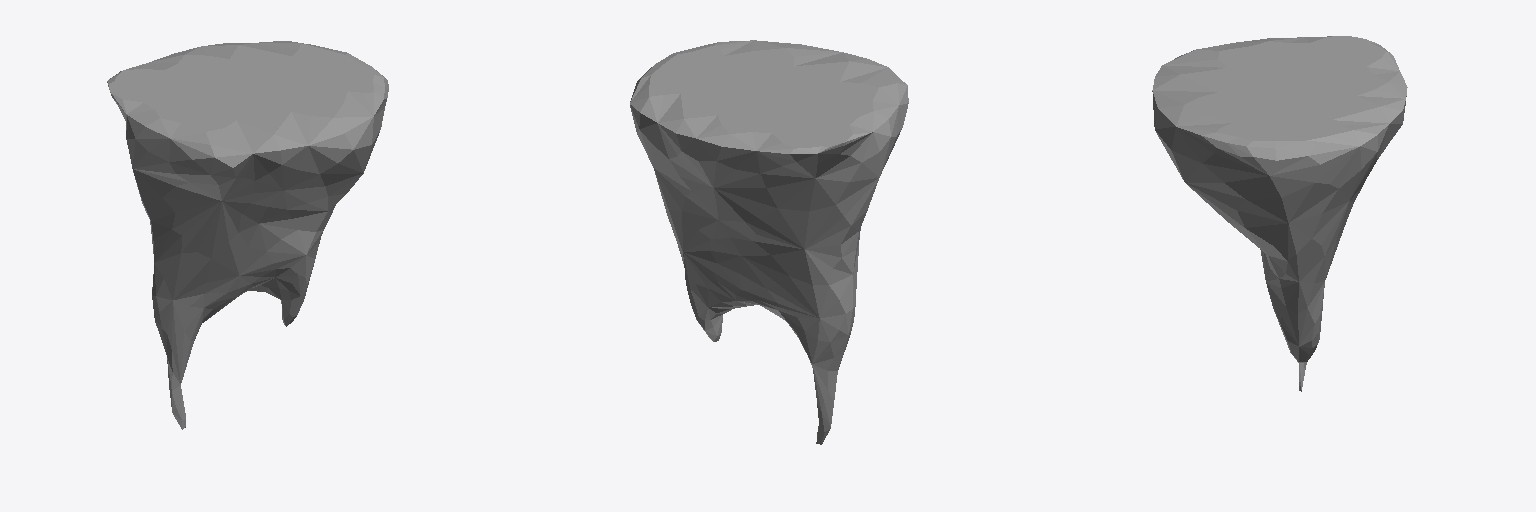
File: island2.obj
The picture shows the model from 3 angles: view 1: azimuth 30°, elevation 25°; view 2: azimuth 150°, elevation 25°; view 3: azimuth 270°, elevation 25°; orthographic projection.
Parts seen in each view (by area): view 1: Mesh_Cube; view 2: Mesh_Cube; view 3: Mesh_Cube.
Boxes of the visible parts, x1=… form: Mesh_Cube: x1=107, y1=41, x2=388, y2=429; Mesh_Cube: x1=630, y1=40, x2=908, y2=444; Mesh_Cube: x1=1152, y1=36, x2=1407, y2=391.
Size of the model in its own units: 2.7 by 3.51 by 2.44.